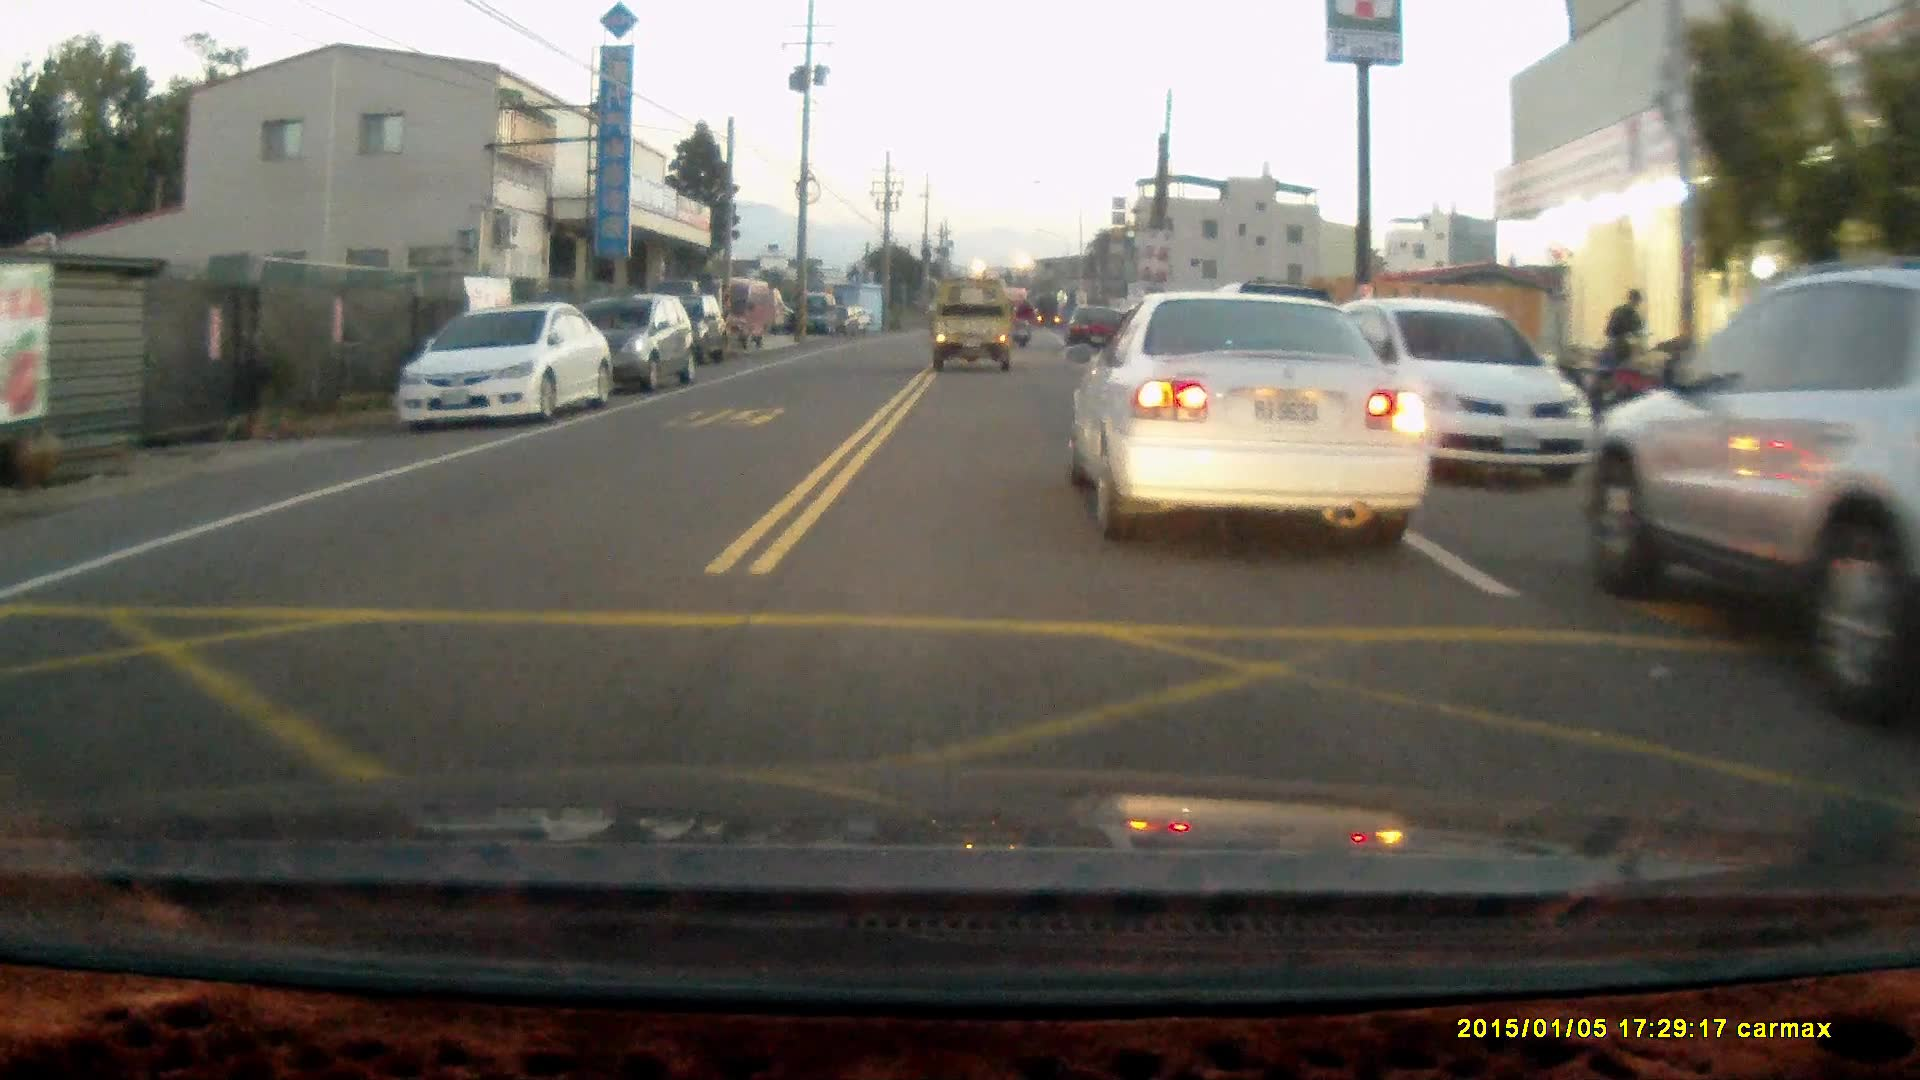pedestrian: (1600, 286, 1645, 394)
rider: (1009, 299, 1035, 347)
vehicle: (1588, 263, 1920, 735), (1076, 280, 1425, 535), (1319, 289, 1601, 483), (398, 290, 616, 424), (558, 287, 701, 394), (627, 274, 733, 363), (932, 272, 1020, 370), (714, 275, 779, 349), (1062, 301, 1126, 349)
